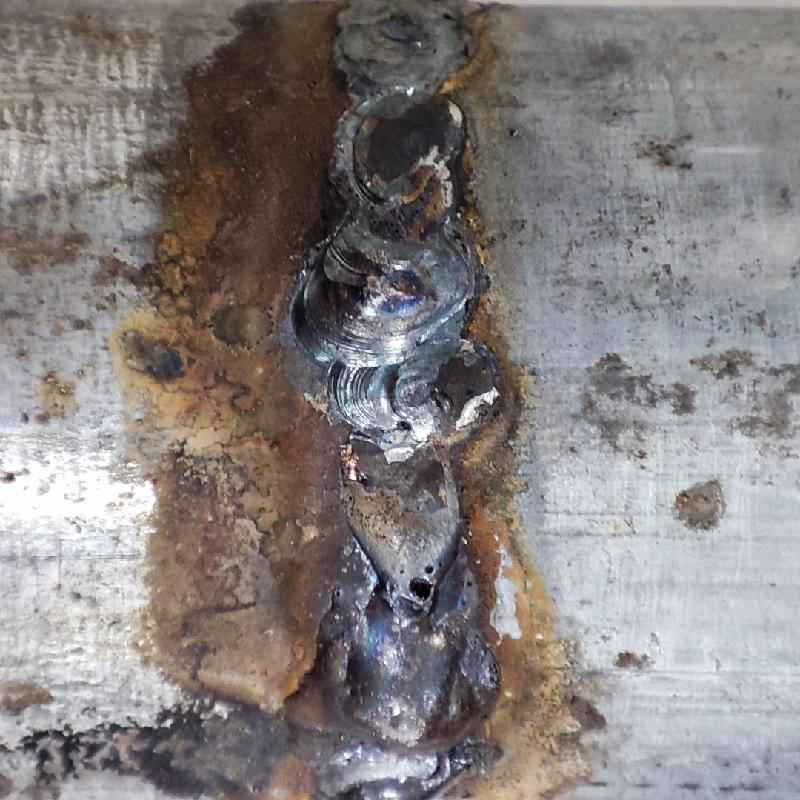Not_fully_soldered: (319, 370, 483, 613)
Surface_pores: (392, 560, 453, 609)
wrong_size: (286, 3, 485, 370)
